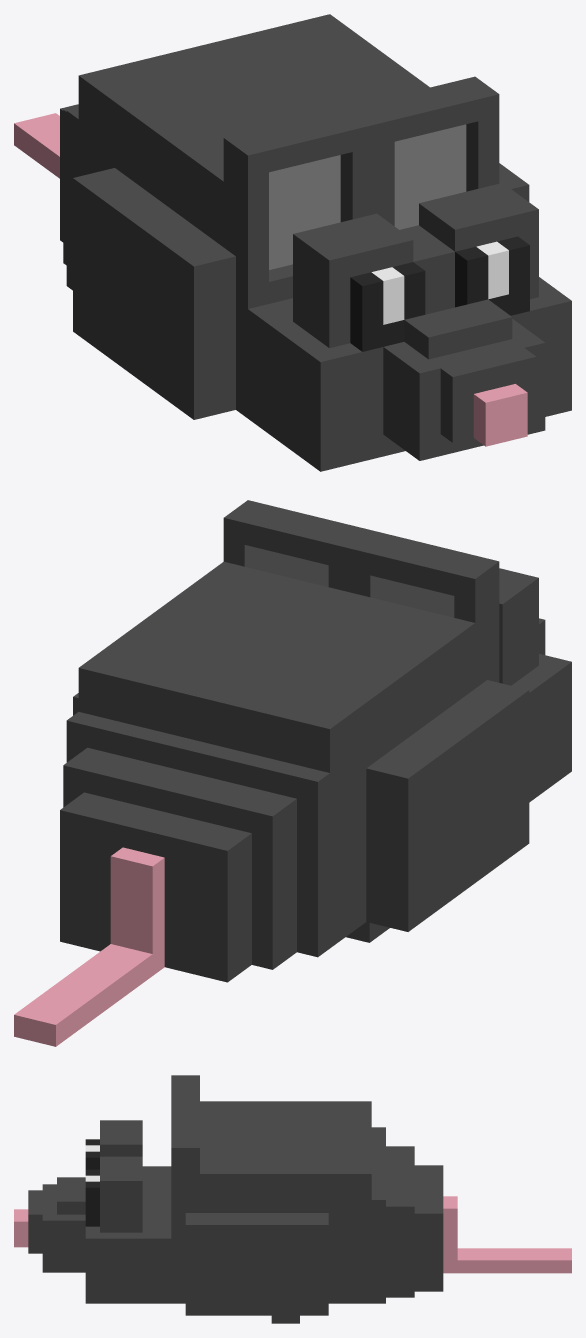
File: mikymousi.fbx
3 renders of one model, top to bottom at view 1: azimuth 30°, elevation 25°; view 2: azimuth 150°, elevation 25°; view 3: azimuth 270°, elevation 25°, orthographic. The views are drawn at different scales.
Visible parts, largest first — view 1: mouse; view 2: mouse; view 3: mouse.
Part boxes in pixels (box(x1,y1,x2,y2)): mouse: box(14, 14, 571, 471); mouse: box(14, 500, 571, 1046); mouse: box(14, 1075, 571, 1323).
Bounding box in the file's own units: 1600 × 1400 × 3900.
